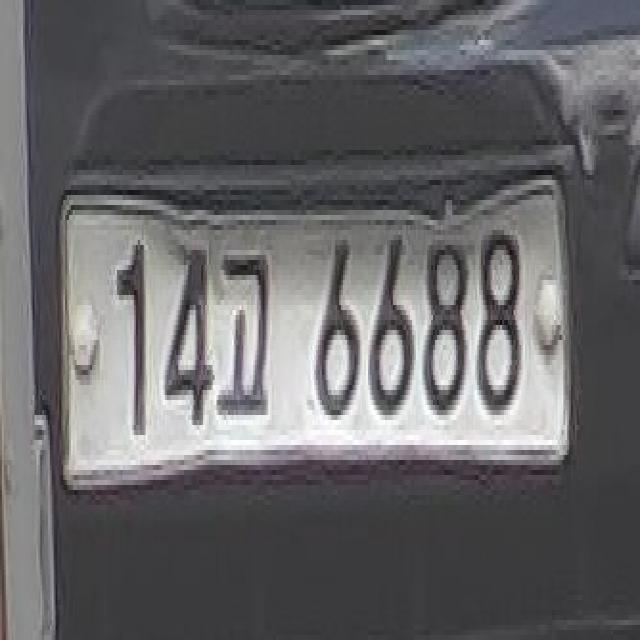1: (111, 225, 159, 450)
4: (163, 235, 216, 455)
6: (308, 230, 366, 435), (368, 225, 416, 435)
8: (418, 210, 475, 425), (475, 215, 527, 420)
go: (212, 235, 280, 435)
license_plate: (48, 180, 573, 495)
